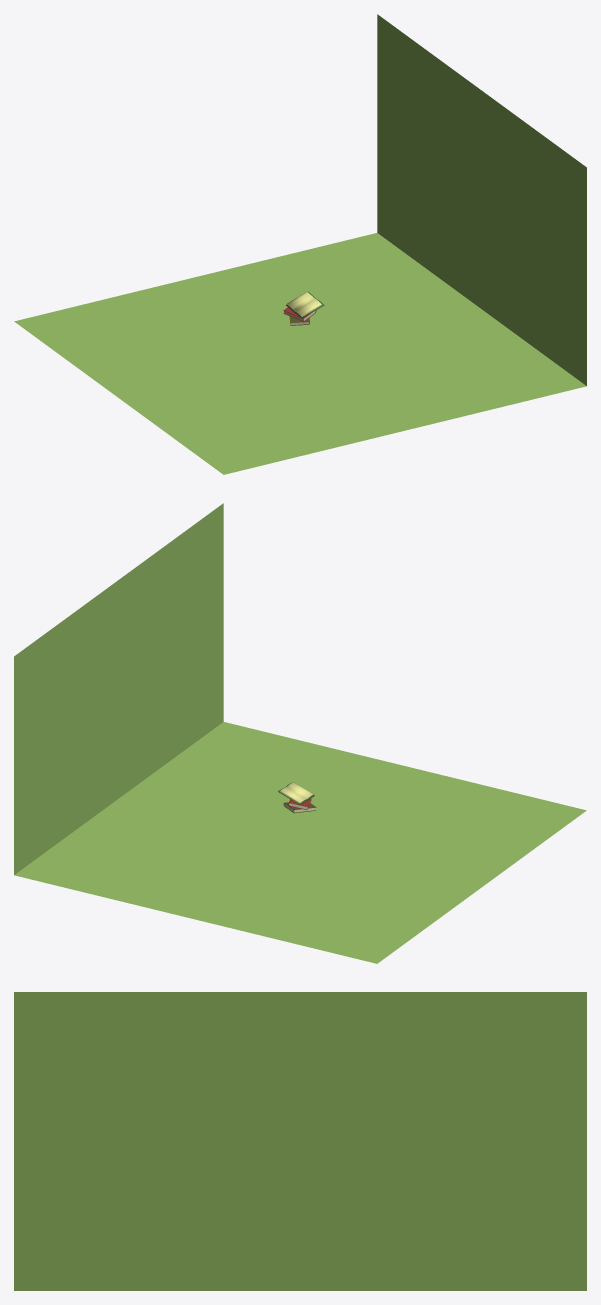
The model's file is materi.glb.
The picture shows the model from 3 angles, top to bottom: view 1: azimuth 30°, elevation 25°; view 2: azimuth 150°, elevation 25°; view 3: azimuth 270°, elevation 25°; orthographic projection. The views are drawn at different scales.
Visible parts, largest first — view 1: bg; view 2: bg; view 3: bg.
Part boxes in pixels (box(x1,y1,x2,y2)): bg: box(14, 14, 586, 474); bg: box(14, 503, 586, 963); bg: box(14, 992, 586, 1290).
Size of the model in its own units: 10 by 5.75 by 10.
